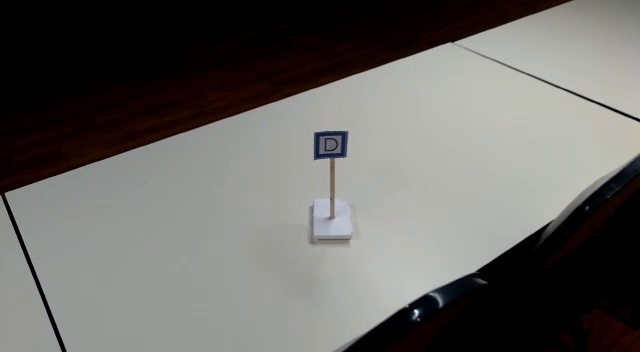durak: (315, 130, 348, 161)
